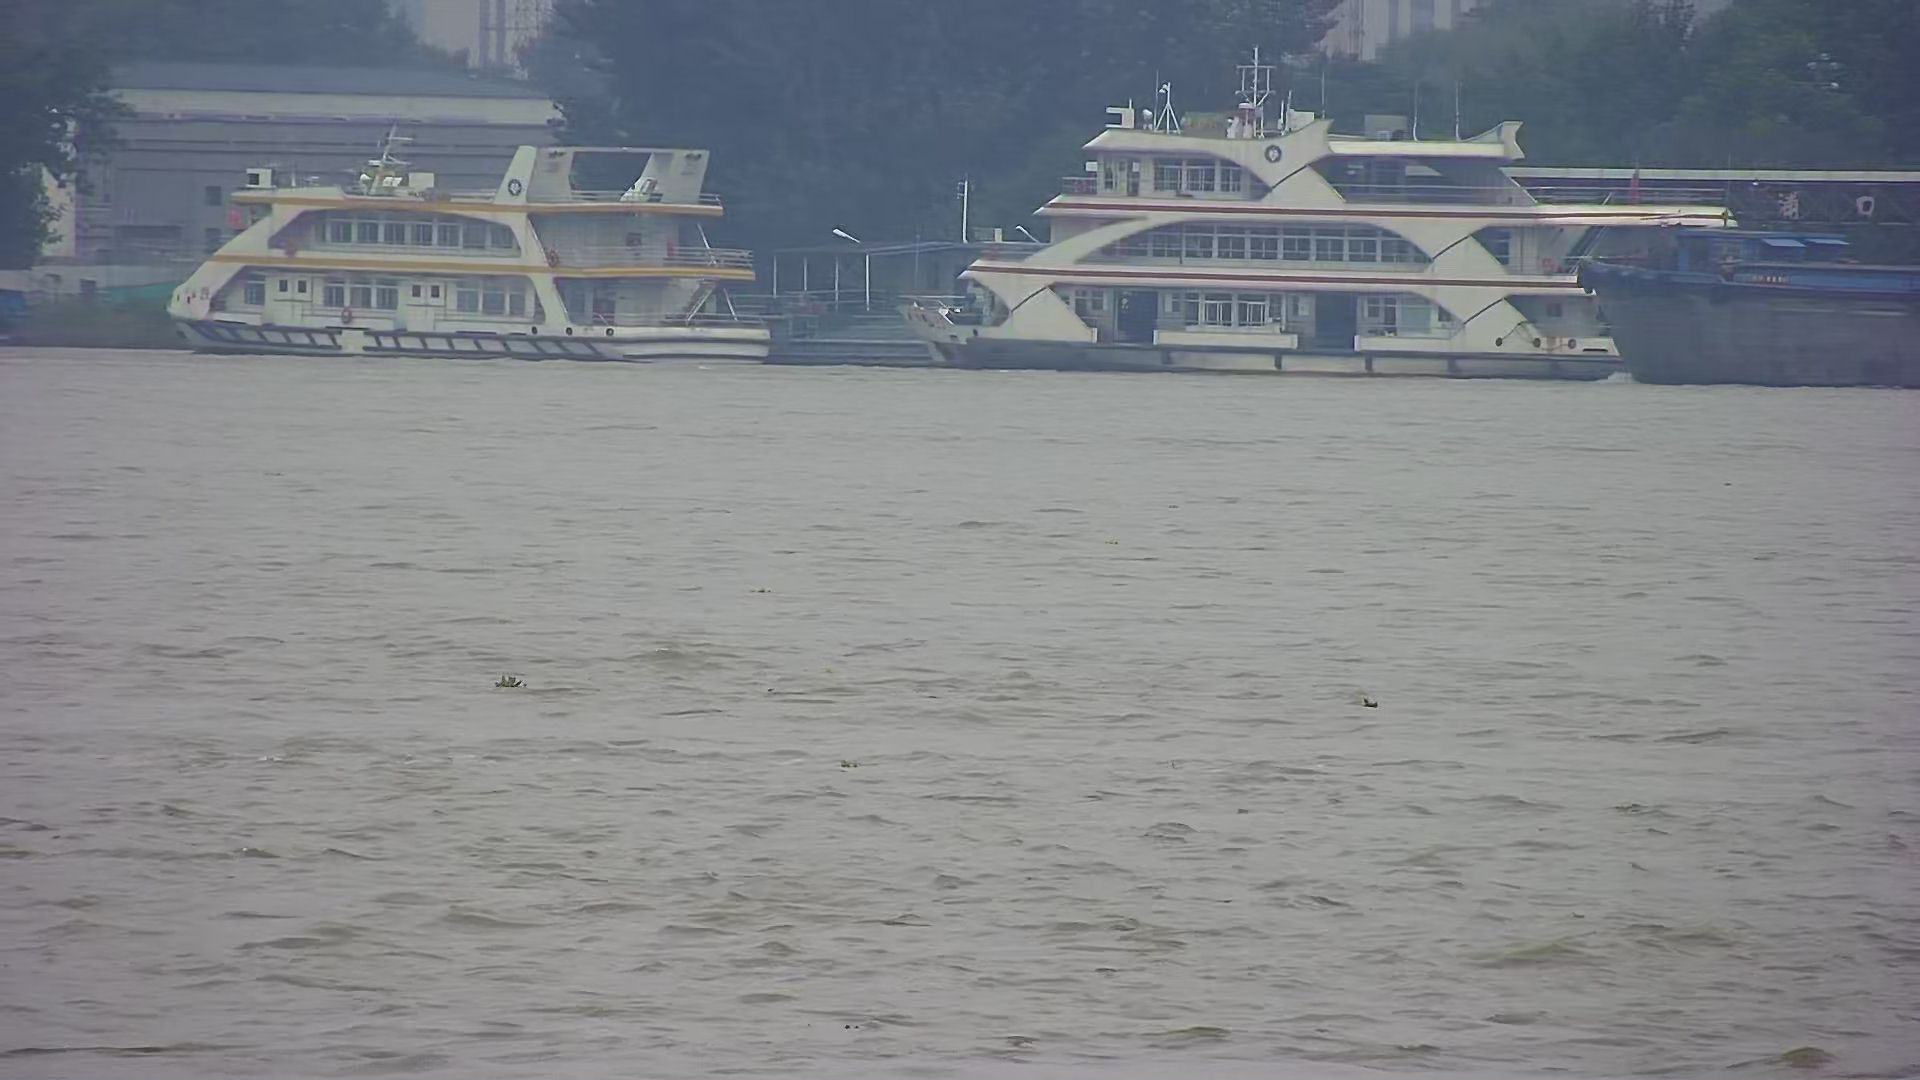ship: (894, 38, 1743, 389), (160, 98, 785, 376)
